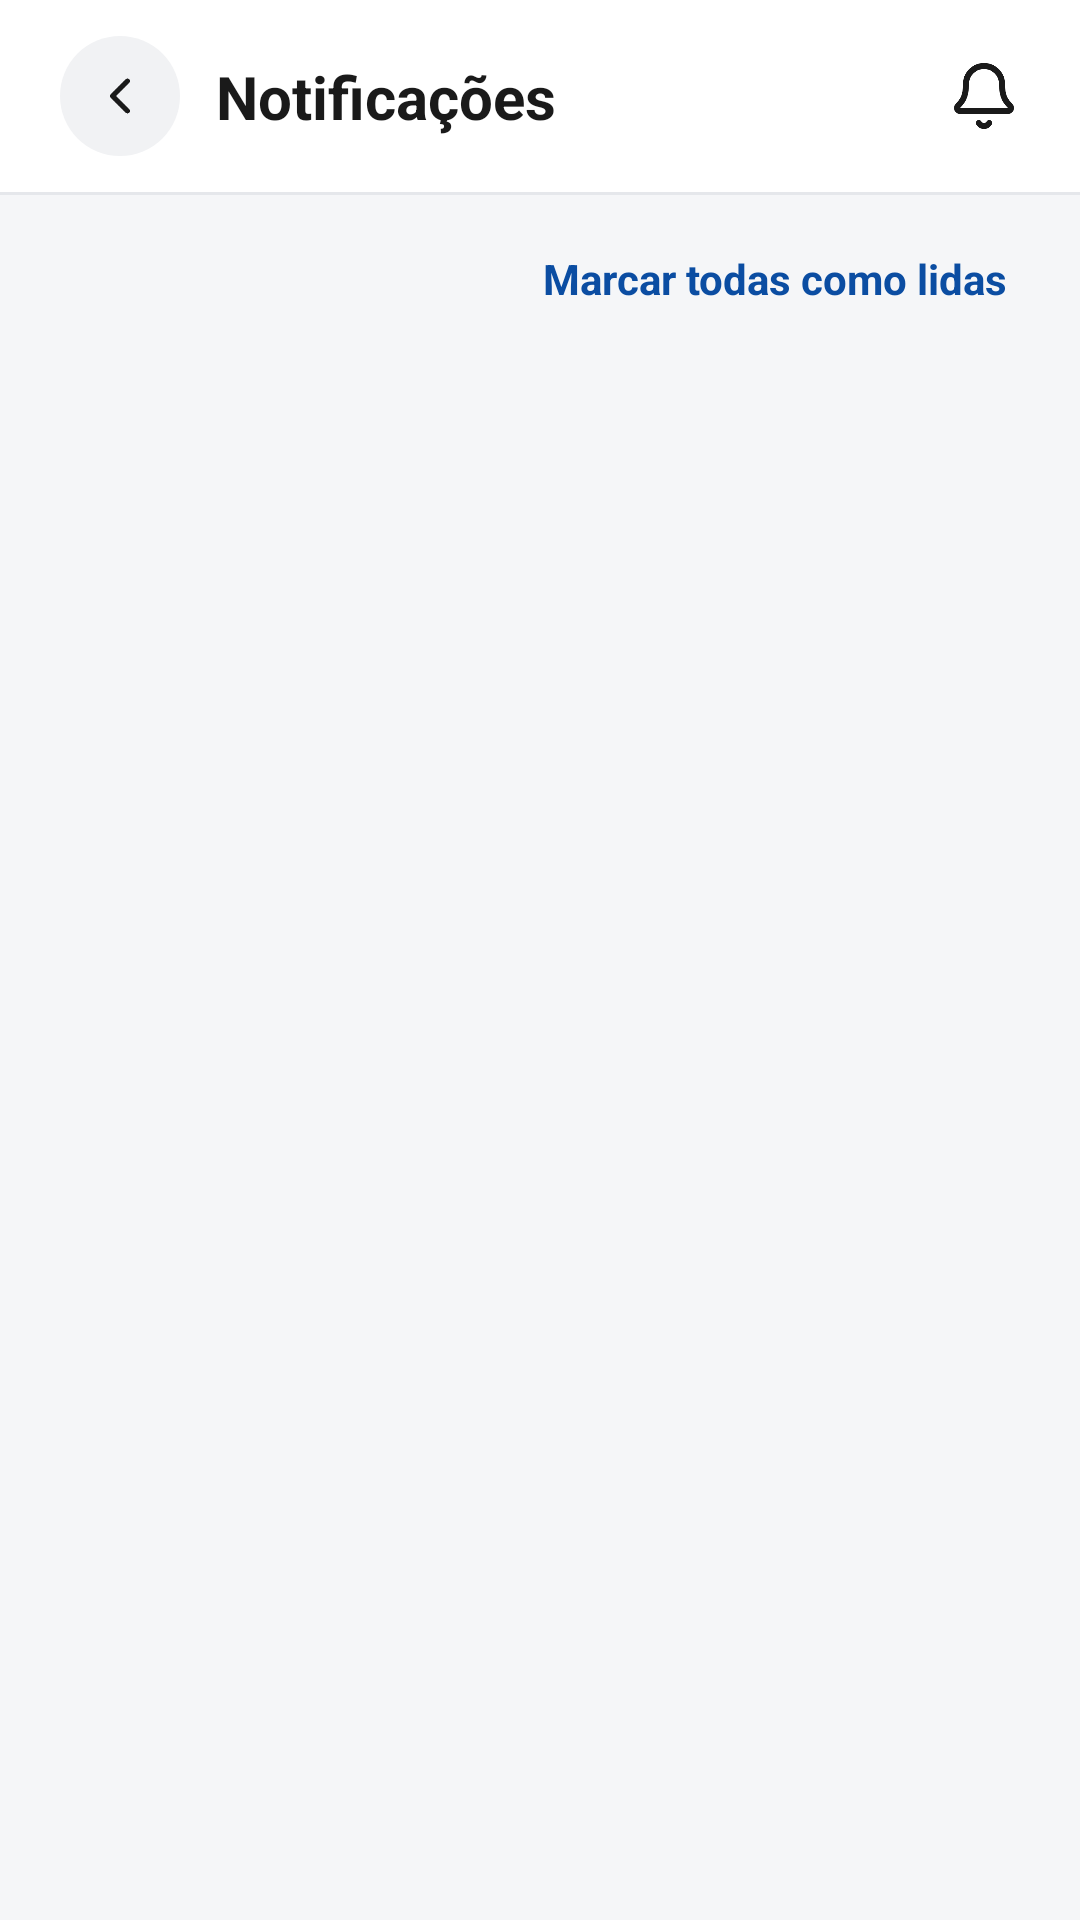

Icons on this 1080w x 1920h Android screen, each with the point to tap as (x=x, y=y):
notificacao: (x=984, y=96)
Voltar: (x=120, y=96)
